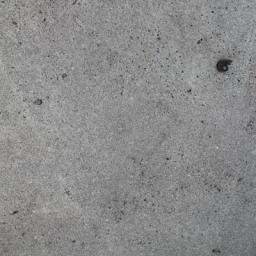FOD: (214, 57, 235, 77)
